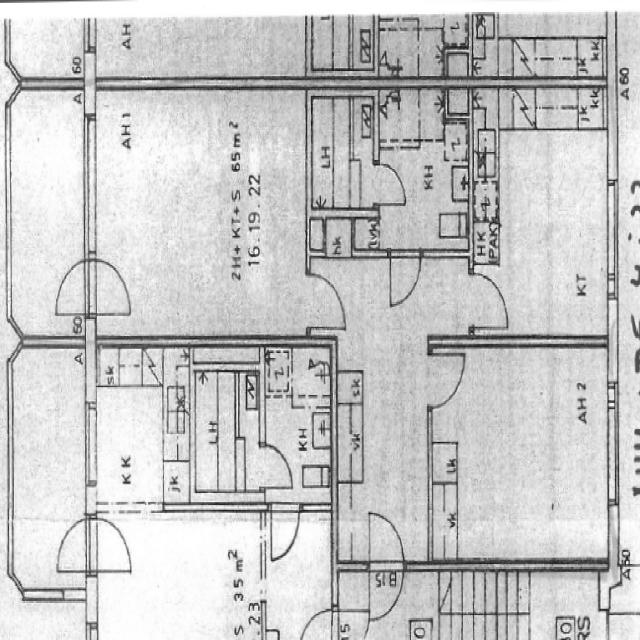door: (367, 509, 406, 613), (469, 266, 510, 331), (92, 514, 134, 576), (91, 256, 132, 319), (368, 564, 404, 629), (428, 350, 465, 410), (310, 270, 346, 330), (387, 250, 423, 308), (54, 259, 89, 318), (268, 502, 300, 564), (56, 516, 90, 574), (373, 161, 407, 207), (262, 445, 293, 490), (300, 606, 332, 640)
window: (82, 117, 99, 254), (604, 179, 620, 295), (83, 402, 99, 490)
zone: (90, 87, 311, 342), (437, 341, 617, 564), (474, 105, 613, 342), (342, 286, 432, 560), (5, 79, 86, 345), (9, 336, 87, 594), (113, 515, 263, 640), (376, 88, 470, 254), (91, 346, 168, 516), (262, 342, 332, 498), (183, 352, 247, 505), (261, 513, 332, 640), (310, 92, 374, 217), (474, 32, 605, 80), (526, 569, 608, 640), (377, 22, 445, 80), (309, 268, 346, 330), (314, 215, 356, 258), (262, 445, 292, 490)
